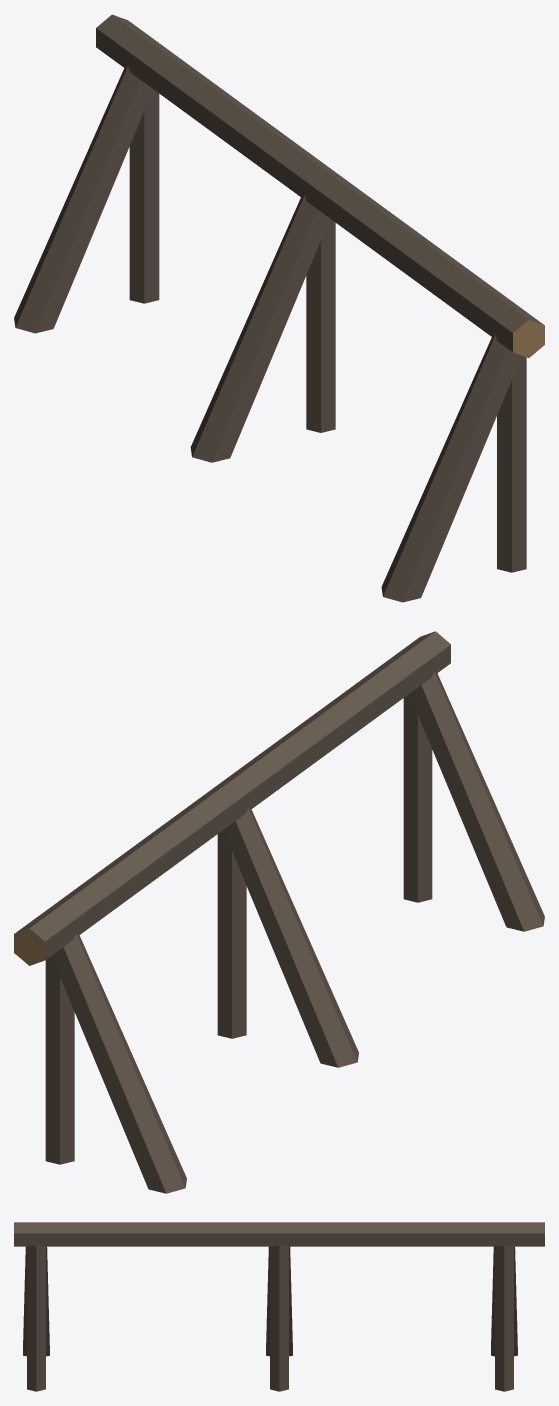
Rendered from Weapon_Holder_04.fbx.
3 renders of one model, top to bottom at view 1: azimuth 30°, elevation 25°; view 2: azimuth 150°, elevation 25°; view 3: azimuth 270°, elevation 25°, orthographic. The views are drawn at different scales.
Parts seen in each view (by area): view 1: Weapon_Holder_04; view 2: Weapon_Holder_04; view 3: Weapon_Holder_04.
Part boxes in pixels (<box>): Weapon_Holder_04: <box>14,14,544,602</box>; Weapon_Holder_04: <box>14,631,544,1193</box>; Weapon_Holder_04: <box>14,1222,544,1391</box>.
Bounding box in the file's own units: 10.87 × 18.62 × 54.37.
